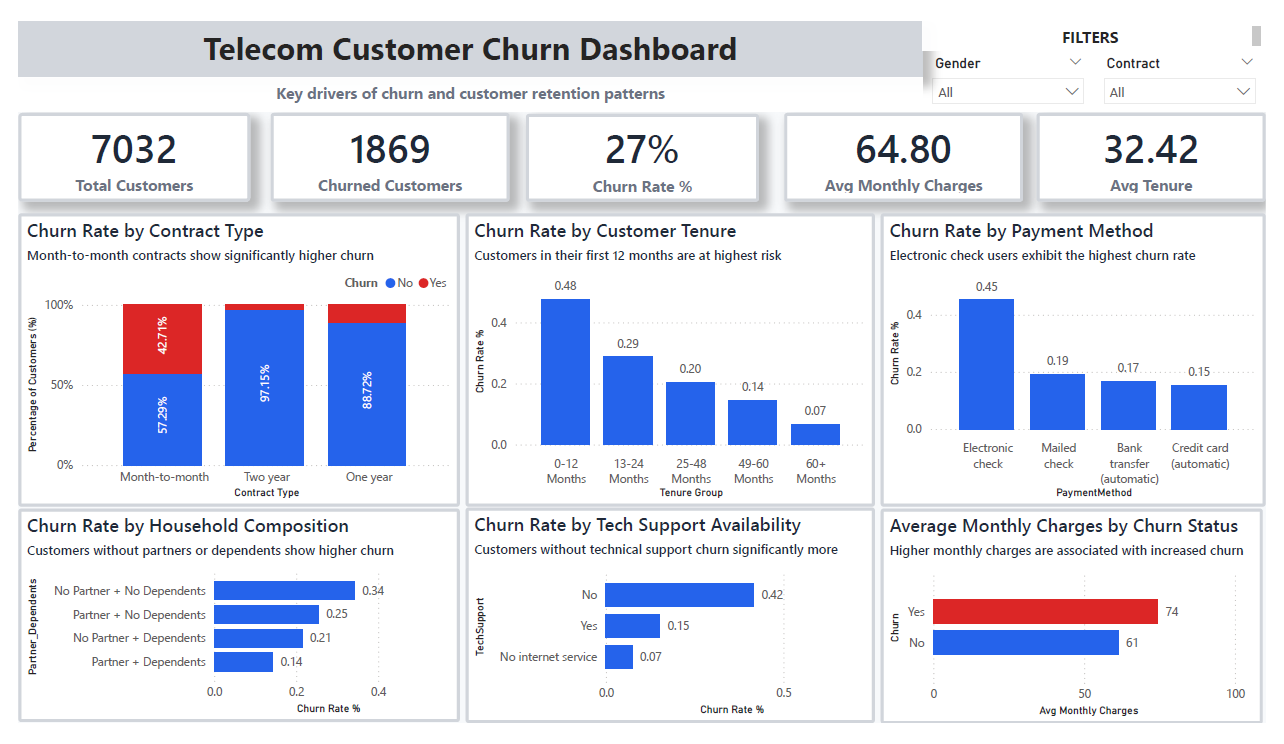

Layout of this report page (visuals, bound fields, positions):
{"tool":"powerbi","page":{"name":"Executive Overview","canvas":[1280,720],"ordinal":0},"visuals":[{"type":"card","fields":{"Values":["WA_Fn-UseC_-Telco-Customer-Churn.Total Customers"]},"box":[0,93.9,237.7,90.9],"z":1000},{"type":"card","fields":{"Values":["WA_Fn-UseC_-Telco-Customer-Churn.Churned Customers"]},"box":[258.9,93.9,245.3,90.9],"z":2000},{"type":"card","fields":{"Values":["WA_Fn-UseC_-Telco-Customer-Churn.Churn Rate %"]},"box":[520.9,95.4,239.2,89.3],"z":3000},{"type":"card","fields":{"Values":["WA_Fn-UseC_-Telco-Customer-Churn.Avg Monthly Charges"]},"box":[785.9,93.9,245.3,90.9],"z":4000},{"type":"card","fields":{"Values":["WA_Fn-UseC_-Telco-Customer-Churn.Avg Tenure"]},"box":[1044.8,93.9,234.7,90.9],"z":5000},{"type":"hundredPercentStackedColumnChart","title":"Churn Rate by Contract Type","fields":{"Category":["WA_Fn-UseC_-Telco-Customer-Churn.Contract"],"Series":["WA_Fn-UseC_-Telco-Customer-Churn.Churn"],"Y":["CountNonNull(WA_Fn-UseC_-Telco-Customer-Churn.customerID)"]},"box":[0,196.6,452.6,301.7],"z":6000},{"type":"clusteredColumnChart","title":"Churn Rate by Customer Tenure","fields":{"Category":["WA_Fn-UseC_-Telco-Customer-Churn.Tenure Group"],"Y":["WA_Fn-UseC_-Telco-Customer-Churn.Churn Rate %"]},"box":[458.7,196.6,420.6,301.7],"z":7000},{"type":"slicer","fields":{"Values":["WA_Fn-UseC_-Telco-Customer-Churn.Contract"]},"box":[1103.9,30.3,175.6,62.1],"z":8000},{"type":"slicer","fields":{"Values":["WA_Fn-UseC_-Telco-Customer-Churn.gender"]},"box":[928.2,30.3,175.6,62.1],"z":9000},{"type":"textbox","box":[0,0,928.3,58.3],"z":10000},{"type":"clusteredBarChart","title":"Average Monthly Charges by Churn Status","fields":{"Category":["WA_Fn-UseC_-Telco-Customer-Churn.Churn"],"Y":["WA_Fn-UseC_-Telco-Customer-Churn.Avg Monthly Charges"]},"box":[885.3,499.8,391.6,221],"z":11000},{"type":"clusteredBarChart","title":"Churn Rate by Tech Support Availability","fields":{"Category":["WA_Fn-UseC_-Telco-Customer-Churn.TechSupport"],"Y":["WA_Fn-UseC_-Telco-Customer-Churn.Churn Rate %"]},"box":[458.7,499,420.6,221],"z":12000},{"type":"clusteredColumnChart","title":"Churn Rate by Payment Method","fields":{"Category":["WA_Fn-UseC_-Telco-Customer-Churn.PaymentMethod"],"Y":["WA_Fn-UseC_-Telco-Customer-Churn.Churn Rate %"]},"box":[885.3,196.6,394.7,301.7],"z":13000},{"type":"textbox","box":[928.2,0,351.3,30.3],"z":15000},{"type":"textbox","box":[0,58.3,928.3,33.3],"z":17000},{"type":"clusteredBarChart","title":"Churn Rate by Household Composition","fields":{"Category":["WA_Fn-UseC_-Telco-Customer-Churn.Partner_Dependents"],"Y":["WA_Fn-UseC_-Telco-Customer-Churn.Churn Rate %"]},"box":[0,499.8,452.6,219.4],"z":19001}]}

Visuals, with their boxes in screenshot pixels (x1, y1, x2, y2), scaled from the page's 1280x720 canvas onto the 1284x744 screenshot:
card - WA_Fn-UseC_-Telco-Customer-Churn.Total Customers: crop(0, 97, 238, 191)
card - WA_Fn-UseC_-Telco-Customer-Churn.Churned Customers: crop(260, 97, 506, 191)
card - WA_Fn-UseC_-Telco-Customer-Churn.Churn Rate %: crop(523, 99, 762, 191)
card - WA_Fn-UseC_-Telco-Customer-Churn.Avg Monthly Charges: crop(788, 97, 1034, 191)
card - WA_Fn-UseC_-Telco-Customer-Churn.Avg Tenure: crop(1048, 97, 1283, 191)
"Churn Rate by Contract Type" hundredPercentStackedColumnChart: crop(0, 203, 454, 515)
"Churn Rate by Customer Tenure" clusteredColumnChart: crop(460, 203, 882, 515)
slicer - WA_Fn-UseC_-Telco-Customer-Churn.Contract: crop(1107, 31, 1283, 95)
slicer - WA_Fn-UseC_-Telco-Customer-Churn.gender: crop(931, 31, 1107, 95)
textbox: crop(0, 0, 931, 60)
"Average Monthly Charges by Churn Status" clusteredBarChart: crop(888, 516, 1281, 743)
"Churn Rate by Tech Support Availability" clusteredBarChart: crop(460, 516, 882, 743)
"Churn Rate by Payment Method" clusteredColumnChart: crop(888, 203, 1283, 515)
textbox: crop(931, 0, 1283, 31)
textbox: crop(0, 60, 931, 95)
"Churn Rate by Household Composition" clusteredBarChart: crop(0, 516, 454, 743)
